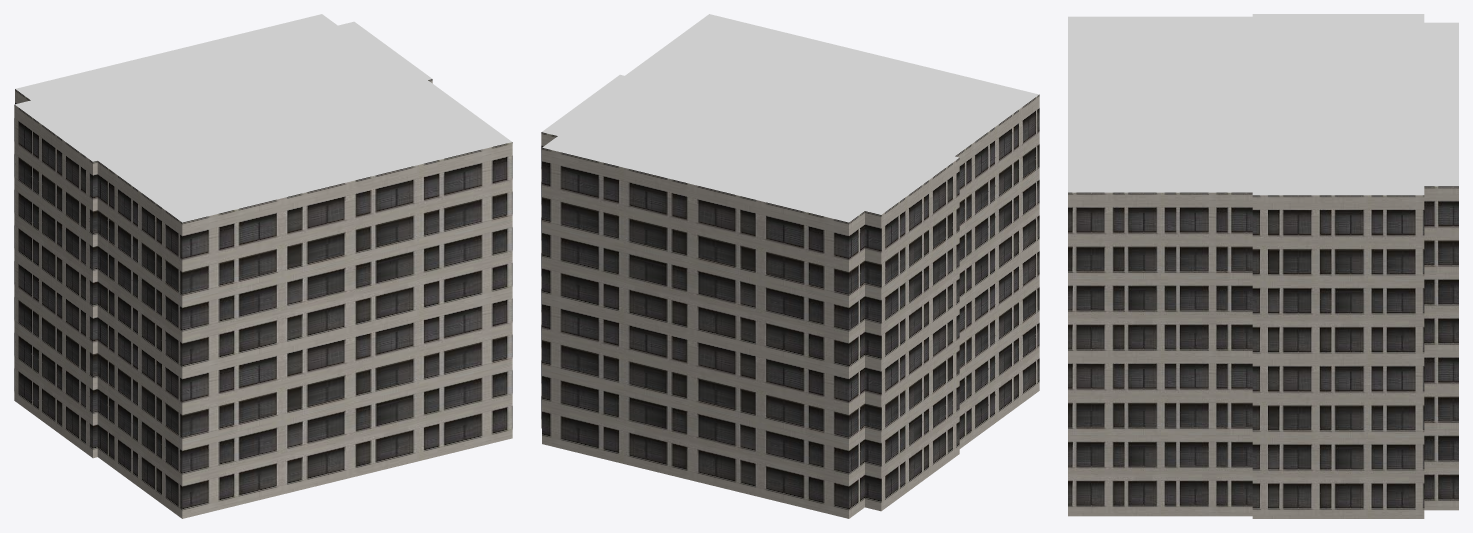
The model's file is building_020.glb.
The picture shows the model from 3 angles, left to right: view 1: azimuth 30°, elevation 25°; view 2: azimuth 150°, elevation 25°; view 3: azimuth 270°, elevation 25°; orthographic projection. The views are drawn at different scales.
Visible parts, largest first — view 1: building_020.002; view 2: building_020.002; view 3: building_020.002.
Part boxes in pixels (x1=…): building_020.002: x1=14, y1=14, x2=512, y2=518; building_020.002: x1=541, y1=14, x2=1039, y2=518; building_020.002: x1=1068, y1=14, x2=1458, y2=518.
Size of the model in its own units: 18 by 15 by 16.41.
1 material, 1 textured.
